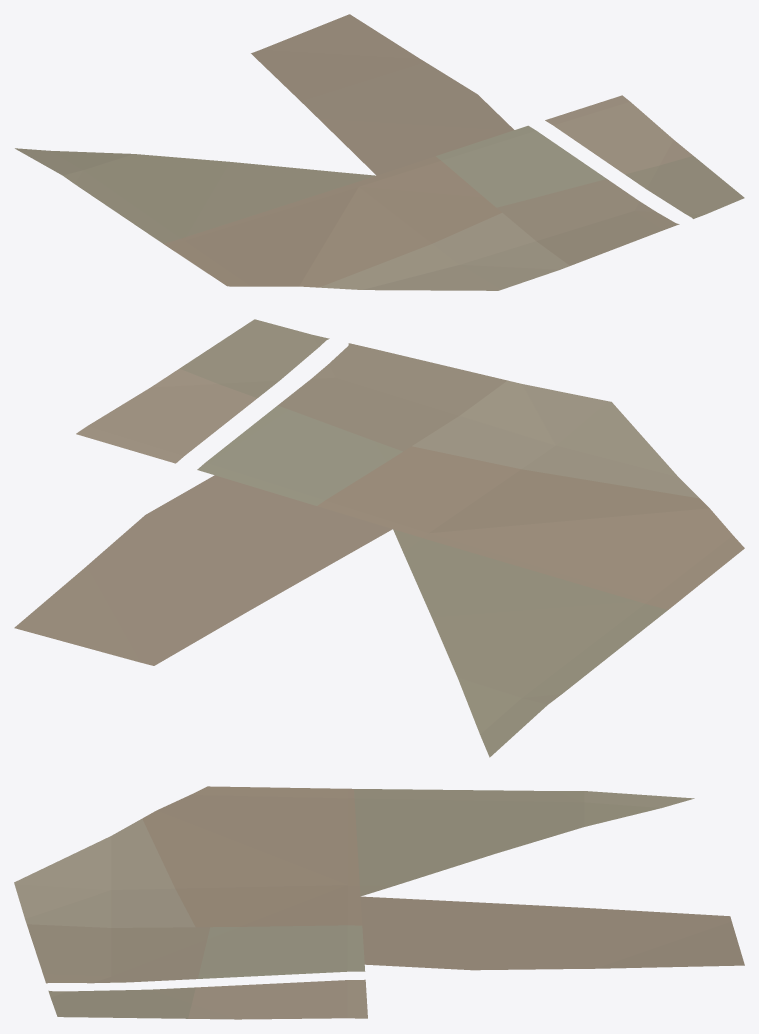
File: farm_18_12_soil.glb
3 views of the same model, one above another, from view 1: azimuth 30°, elevation 25°; view 2: azimuth 150°, elevation 25°; view 3: azimuth 270°, elevation 25° (orthographic). The views are drawn at different scales.
Visible parts, largest first — view 1: geometry_0; view 2: geometry_0; view 3: geometry_0.
Part boxes in pixels (x1,y1,x2,y2): geometry_0: (15,14,744,290); geometry_0: (14,319,744,757); geometry_0: (14,786,744,1019).
Bounding box in the file's own units: 215 × 17.87 × 247.
